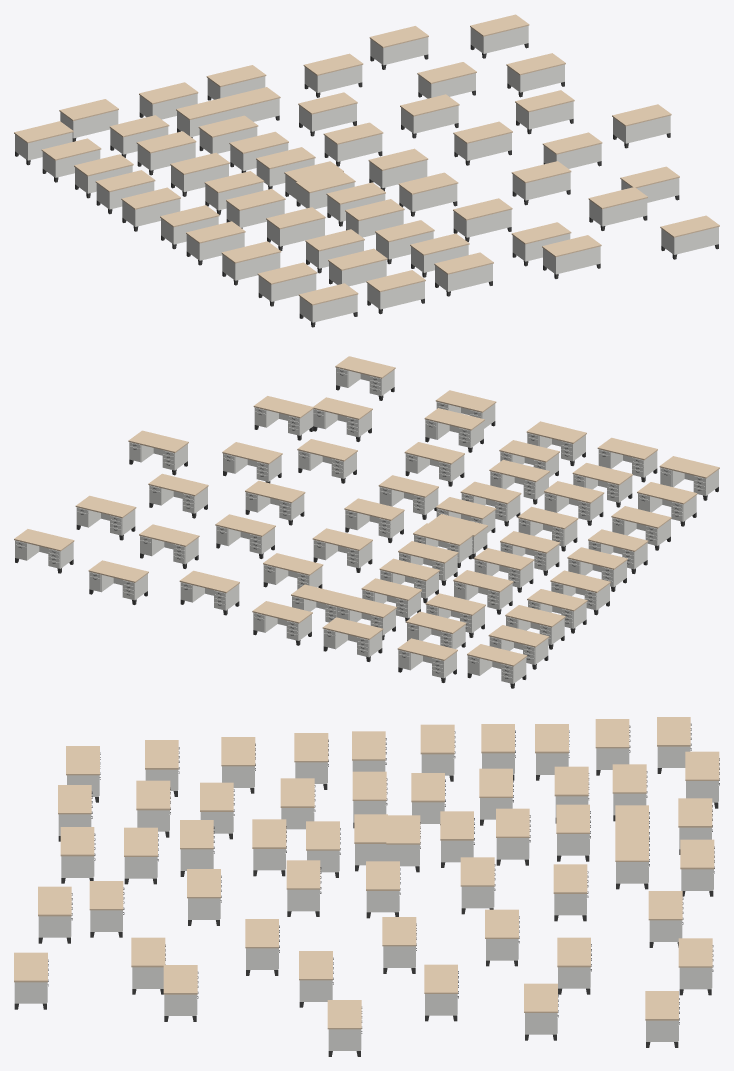
The model's file is zhuozi111.gltf.
3 renders of one model, top to bottom at view 1: azimuth 30°, elevation 25°; view 2: azimuth 150°, elevation 25°; view 3: azimuth 270°, elevation 25°, orthographic. The views are drawn at different scales.
Parts seen in each view (by area): view 1: product-8b0a0d19-4799-465f-91d5-cd98b53e26f6-body, product-8b0a0d19-4799-465f-91d5-cd98b53e26d5-body, product-8b0a0d19-4799-465f-91d5-cd98b53e2779-body, product-8b0a0d19-4799-465f-91d5-cd98b53e26e7-body, product-8b0a0d19-4799-465f-91d5-cd98b53e26e1-body, product-8b0a0d19-4799-465f-91d5-cd98b53e26df-body, product-8b0a0d19-4799-465f-91d5-cd98b53e26cd-body, product-8b0a0d19-4799-465f-91d5-cd98b53e26c6-body, product-8b0a0d19-4799-465f-91d5-cd98b53e26c3-body, product-8b0a0d19-4799-465f-91d5-cd98b53e26e4-body, product-8b0a0d19-4799-465f-91d5-cd98b53e26e8-body, product-8b0a0d19-4799-465f-91d5-cd98b53e26be-body (+43 smaller); view 2: product-8b0a0d19-4799-465f-91d5-cd98b53e269d-body, product-8b0a0d19-4799-465f-91d5-cd98b53e26f3-body, product-8b0a0d19-4799-465f-91d5-cd98b53e26eb-body, product-8b0a0d19-4799-465f-91d5-cd98b53e26fa-body, product-8b0a0d19-4799-465f-91d5-cd98b53e26cd-body, product-8b0a0d19-4799-465f-91d5-cd98b53e2687-body, product-8b0a0d19-4799-465f-91d5-cd98b53e26d5-body, product-8b0a0d19-4799-465f-91d5-cd98b53e26c6-body, product-8b0a0d19-4799-465f-91d5-cd98b53e26f0-body, product-8b0a0d19-4799-465f-91d5-cd98b53e26d9-body, product-8b0a0d19-4799-465f-91d5-cd98b53e26e7-body, product-8b0a0d19-4799-465f-91d5-cd98b53e26e8-body (+43 smaller); view 3: product-8b0a0d19-4799-465f-91d5-cd98b53e26e7-body, product-8b0a0d19-4799-465f-91d5-cd98b53e26ca-body, product-8b0a0d19-4799-465f-91d5-cd98b53e26cd-body, product-8b0a0d19-4799-465f-91d5-cd98b53e26fd-body, product-8b0a0d19-4799-465f-91d5-cd98b53e26dc-body, product-8b0a0d19-4799-465f-91d5-cd98b53e2696-body, product-8b0a0d19-4799-465f-91d5-cd98b53e26c3-body, product-8b0a0d19-4799-465f-91d5-cd98b53e26bb-body, product-8b0a0d19-4799-465f-91d5-cd98b53e26fa-body, product-8b0a0d19-4799-465f-91d5-cd98b53e26a5-body, product-8b0a0d19-4799-465f-91d5-cd98b53e26c0-body, product-8b0a0d19-4799-465f-91d5-cd98b53e26b4-body (+43 smaller).
Boxes of the visible parts, left/top/right/bottom form: product-8b0a0d19-4799-465f-91d5-cd98b53e26f6-body: left=470, top=14, right=529, bottom=58; product-8b0a0d19-4799-465f-91d5-cd98b53e26d5-body: left=303, top=53, right=363, bottom=97; product-8b0a0d19-4799-465f-91d5-cd98b53e2779-body: left=298, top=283, right=358, bottom=327; product-8b0a0d19-4799-465f-91d5-cd98b53e26e7-body: left=369, top=26, right=428, bottom=69; product-8b0a0d19-4799-465f-91d5-cd98b53e26e1-body: left=588, top=187, right=647, bottom=230; product-8b0a0d19-4799-465f-91d5-cd98b53e26df-body: left=511, top=161, right=571, bottom=205; product-8b0a0d19-4799-465f-91d5-cd98b53e26cd-body: left=323, top=122, right=383, bottom=166; product-8b0a0d19-4799-465f-91d5-cd98b53e26c6-body: left=453, top=198, right=512, bottom=241; product-8b0a0d19-4799-465f-91d5-cd98b53e26c3-body: left=398, top=172, right=458, bottom=216; product-8b0a0d19-4799-465f-91d5-cd98b53e26e4-body: left=515, top=90, right=574, bottom=134; product-8b0a0d19-4799-465f-91d5-cd98b53e26e8-body: left=400, top=94, right=459, bottom=138; product-8b0a0d19-4799-465f-91d5-cd98b53e26be-body: left=434, top=252, right=493, bottom=296; product-8b0a0d19-4799-465f-91d5-cd98b53e269d-body: left=322, top=617, right=383, bottom=661; product-8b0a0d19-4799-465f-91d5-cd98b53e26f3-body: left=75, top=495, right=136, bottom=540; product-8b0a0d19-4799-465f-91d5-cd98b53e26eb-body: left=245, top=480, right=305, bottom=525; product-8b0a0d19-4799-465f-91d5-cd98b53e26fa-body: left=253, top=396, right=313, bottom=440; product-8b0a0d19-4799-465f-91d5-cd98b53e26cd-body: left=312, top=528, right=372, bottom=572; product-8b0a0d19-4799-465f-91d5-cd98b53e2687-body: left=467, top=644, right=527, bottom=688; product-8b0a0d19-4799-465f-91d5-cd98b53e26d5-body: left=179, top=570, right=239, bottom=615; product-8b0a0d19-4799-465f-91d5-cd98b53e26c6-body: left=404, top=442, right=464, bottom=486; product-8b0a0d19-4799-465f-91d5-cd98b53e26f0-body: left=128, top=430, right=188, bottom=475; product-8b0a0d19-4799-465f-91d5-cd98b53e26d9-body: left=424, top=408, right=484, bottom=452; product-8b0a0d19-4799-465f-91d5-cd98b53e26e7-body: left=88, top=560, right=148, bottom=604; product-8b0a0d19-4799-465f-91d5-cd98b53e26e8-body: left=215, top=514, right=275, bottom=558; product-8b0a0d19-4799-465f-91d5-cd98b53e26e7-body: left=678, top=938, right=713, bottom=995; product-8b0a0d19-4799-465f-91d5-cd98b53e26ca-body: left=553, top=864, right=588, bottom=921; product-8b0a0d19-4799-465f-91d5-cd98b53e26cd-body: left=460, top=857, right=495, bottom=914; product-8b0a0d19-4799-465f-91d5-cd98b53e26fd-body: left=14, top=952, right=48, bottom=1009; product-8b0a0d19-4799-465f-91d5-cd98b53e26dc-body: left=38, top=886, right=72, bottom=943; product-8b0a0d19-4799-465f-91d5-cd98b53e2696-body: left=496, top=808, right=530, bottom=865; product-8b0a0d19-4799-465f-91d5-cd98b53e26c3-body: left=286, top=860, right=321, bottom=916; product-8b0a0d19-4799-465f-91d5-cd98b53e26bb-body: left=124, top=827, right=158, bottom=884; product-8b0a0d19-4799-465f-91d5-cd98b53e26fa-body: left=163, top=965, right=198, bottom=1021; product-8b0a0d19-4799-465f-91d5-cd98b53e26a5-body: left=252, top=819, right=286, bottom=876; product-8b0a0d19-4799-465f-91d5-cd98b53e26c0-body: left=366, top=861, right=400, bottom=918; product-8b0a0d19-4799-465f-91d5-cd98b53e26b4-body: left=680, top=839, right=714, bottom=896.
Size of the model in its own units: 17.38 by 0.762 by 16.68.
